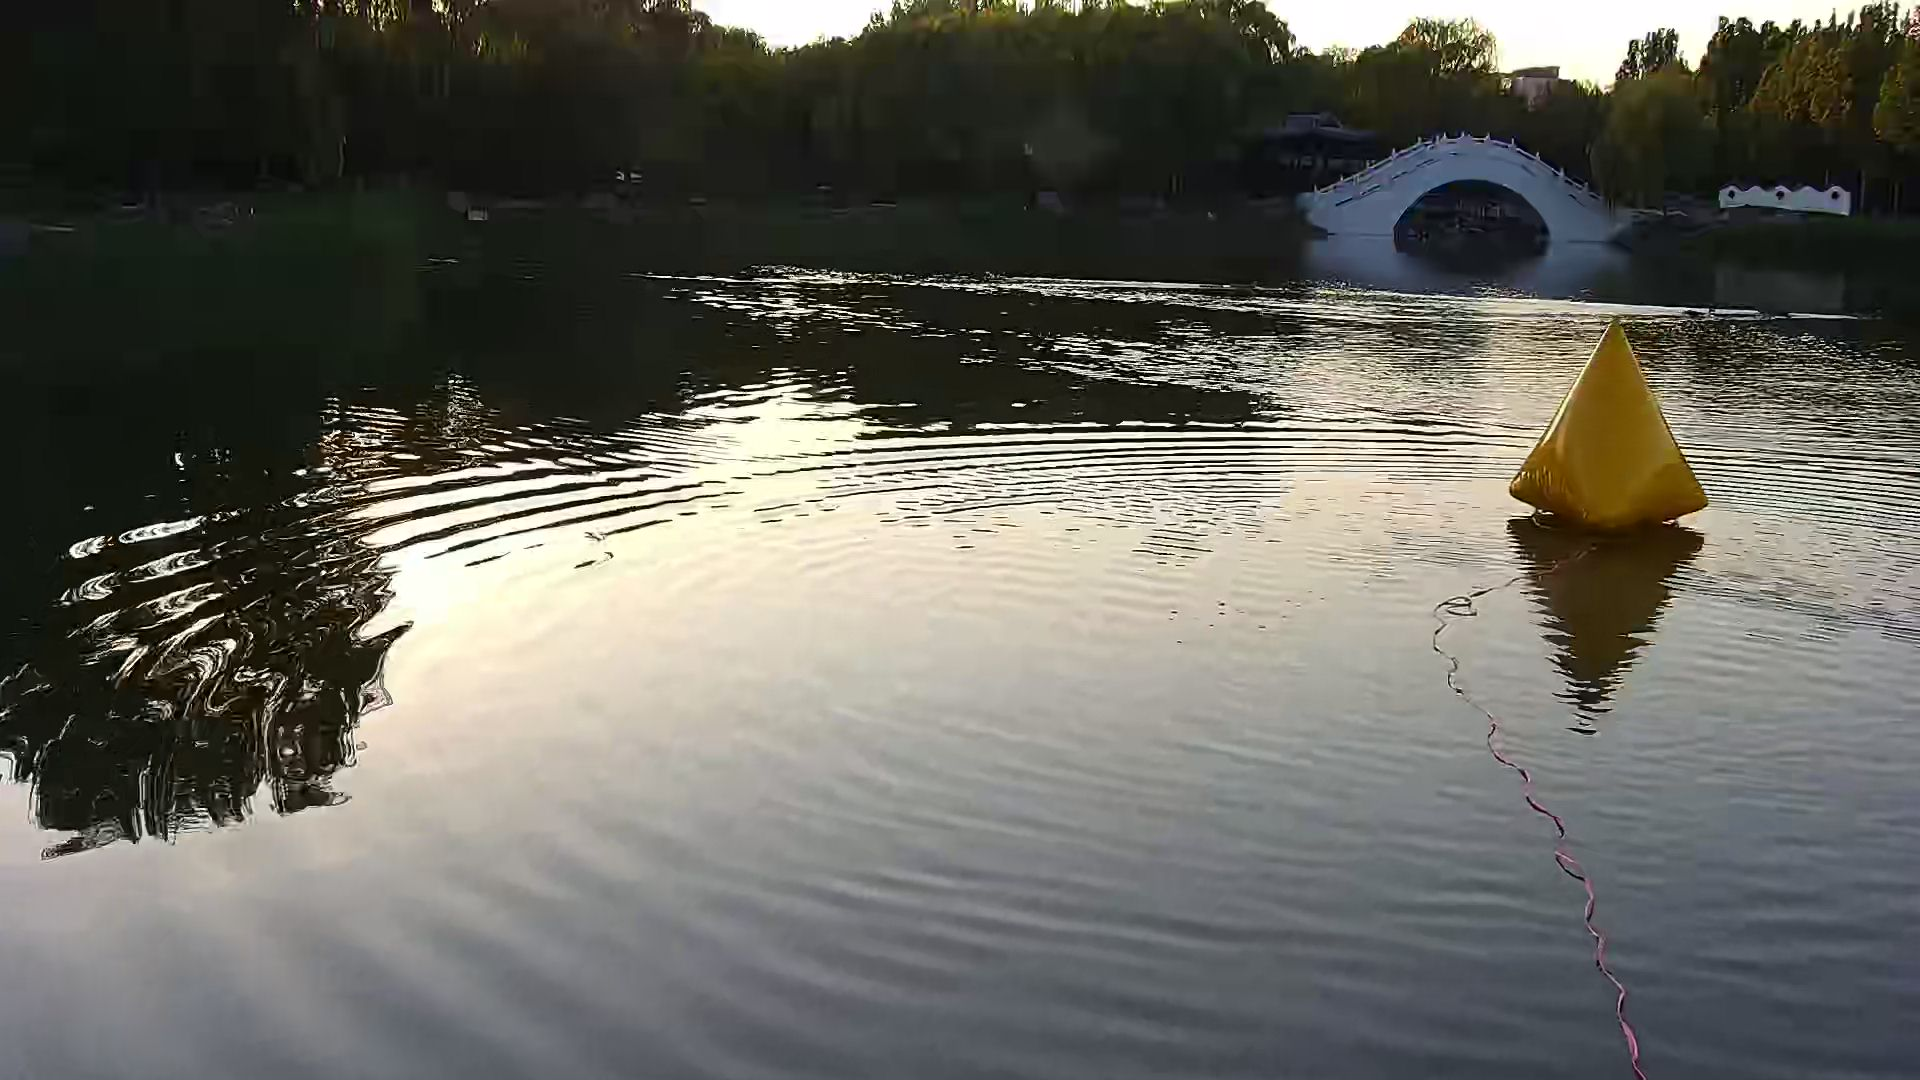bridge: (1298, 133, 1635, 237)
rubbish: (1505, 319, 1705, 539)
